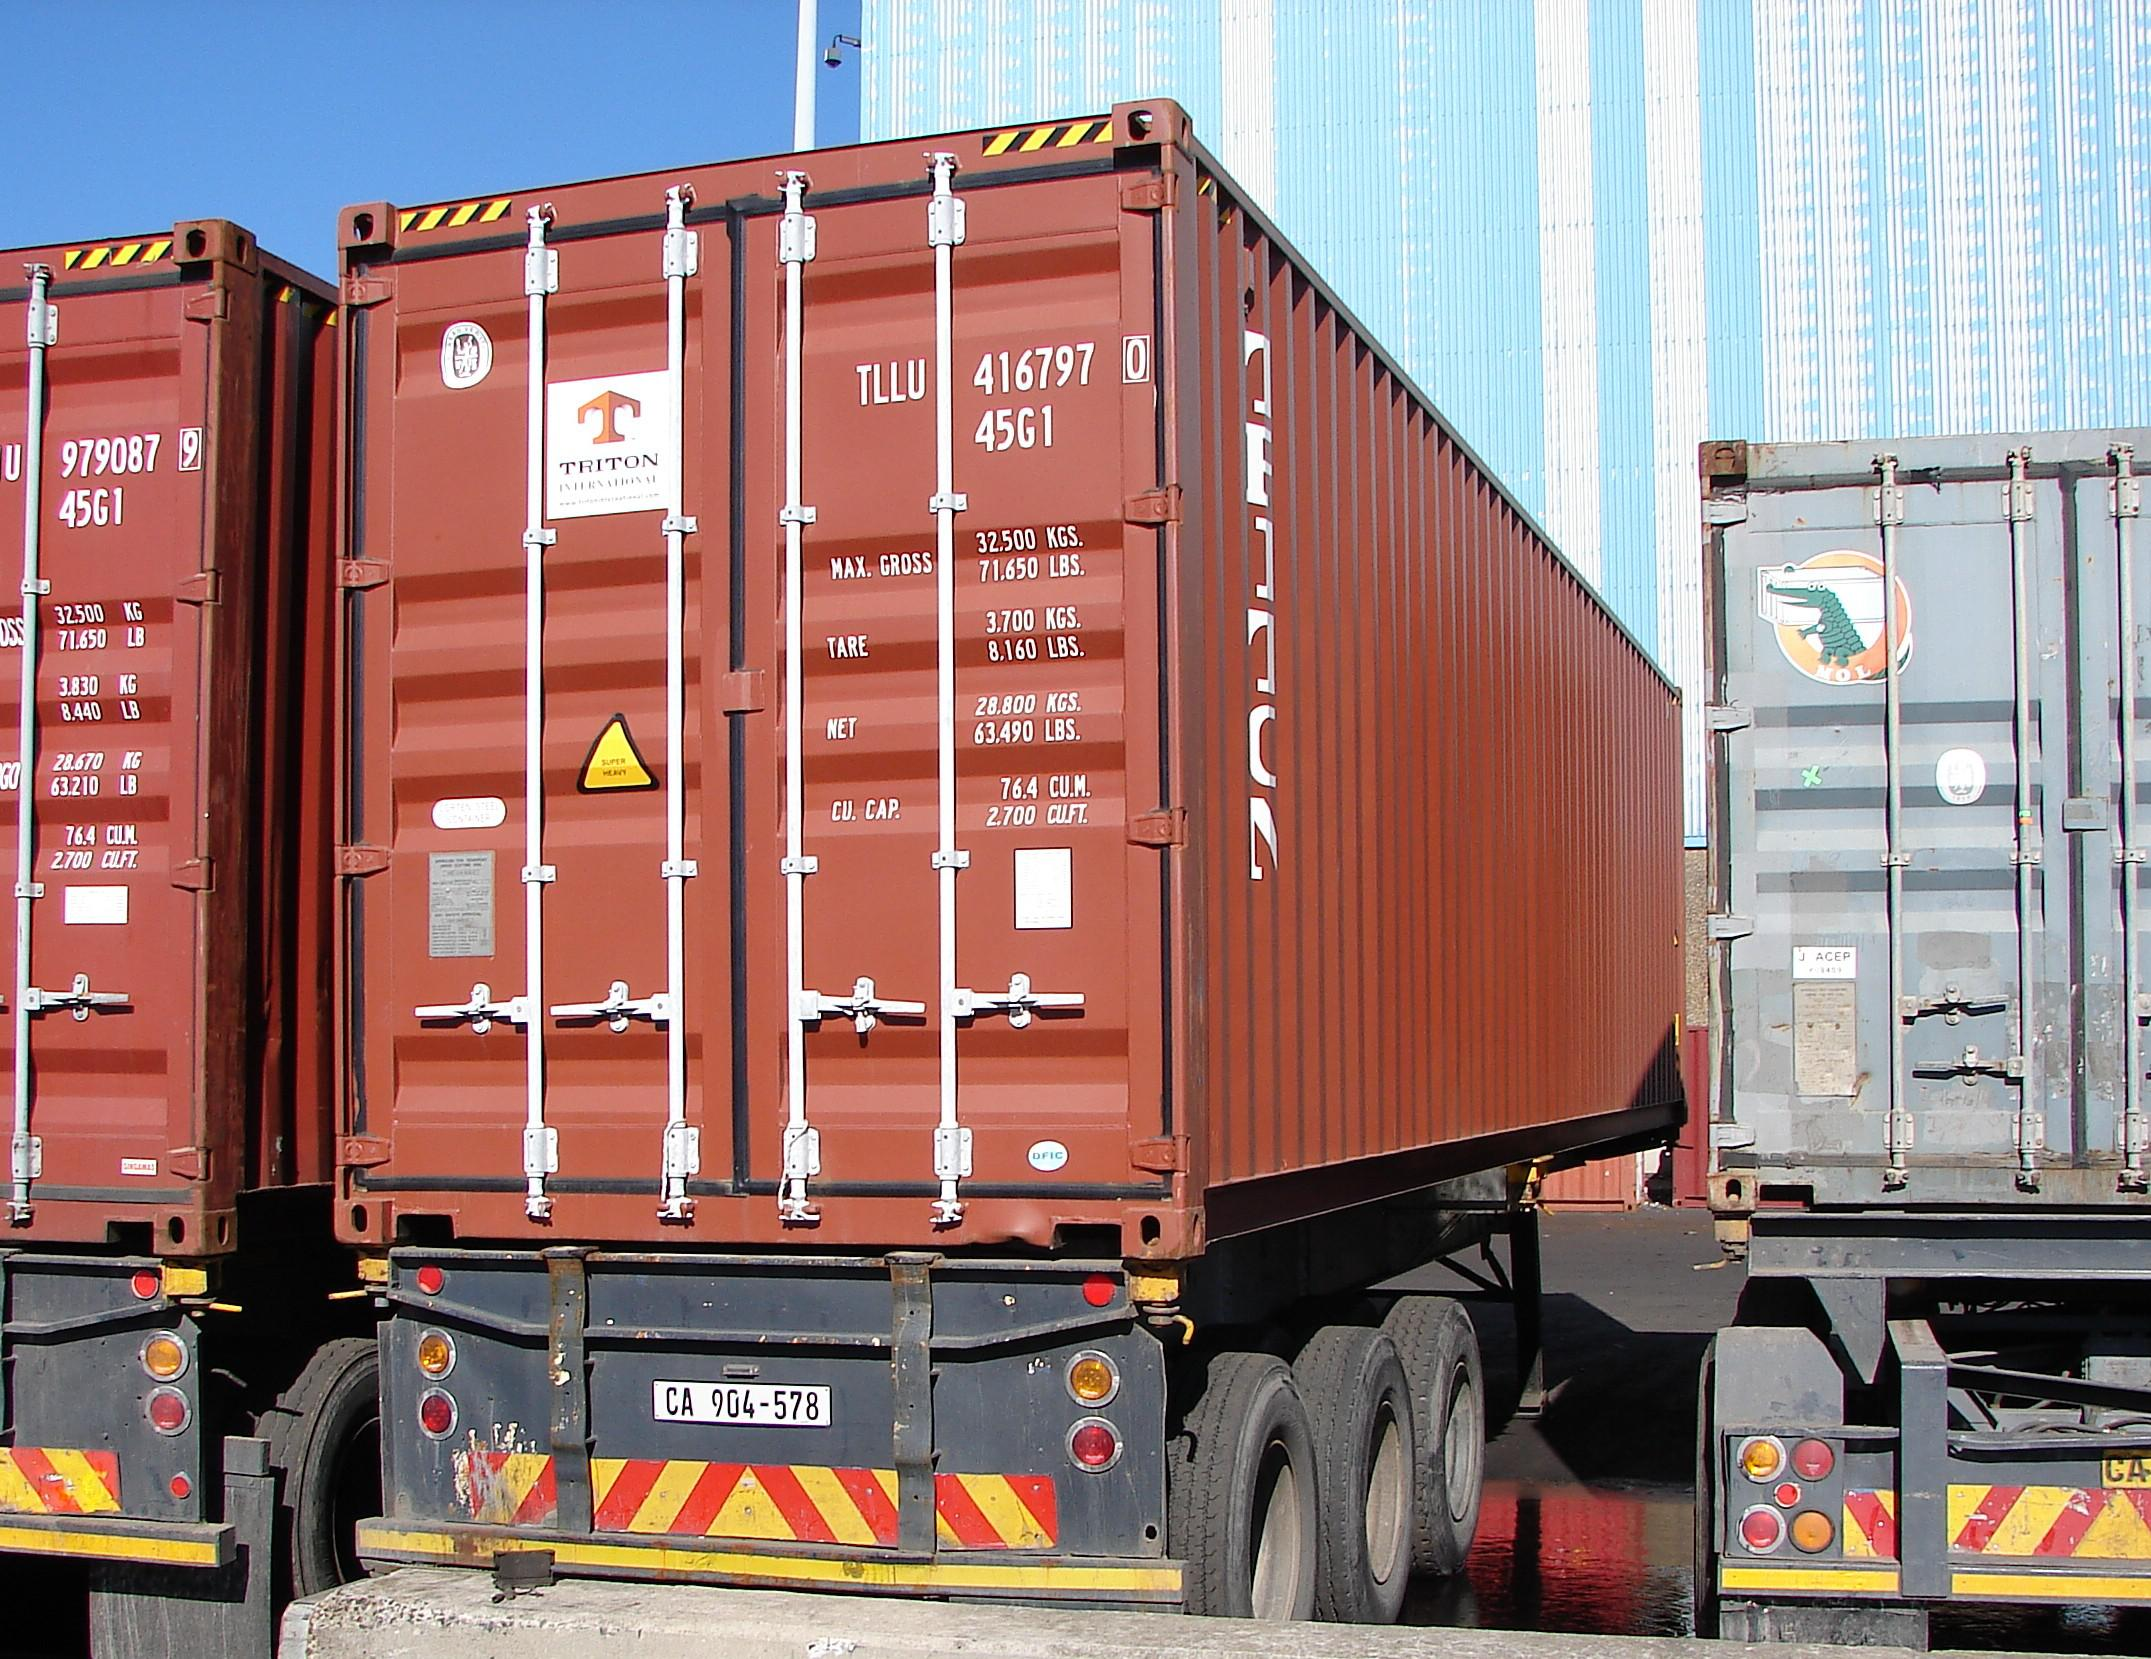ContainerNum: (852, 328, 1157, 462)
